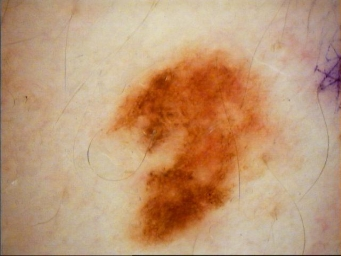melanoma: (110, 56, 269, 244)
